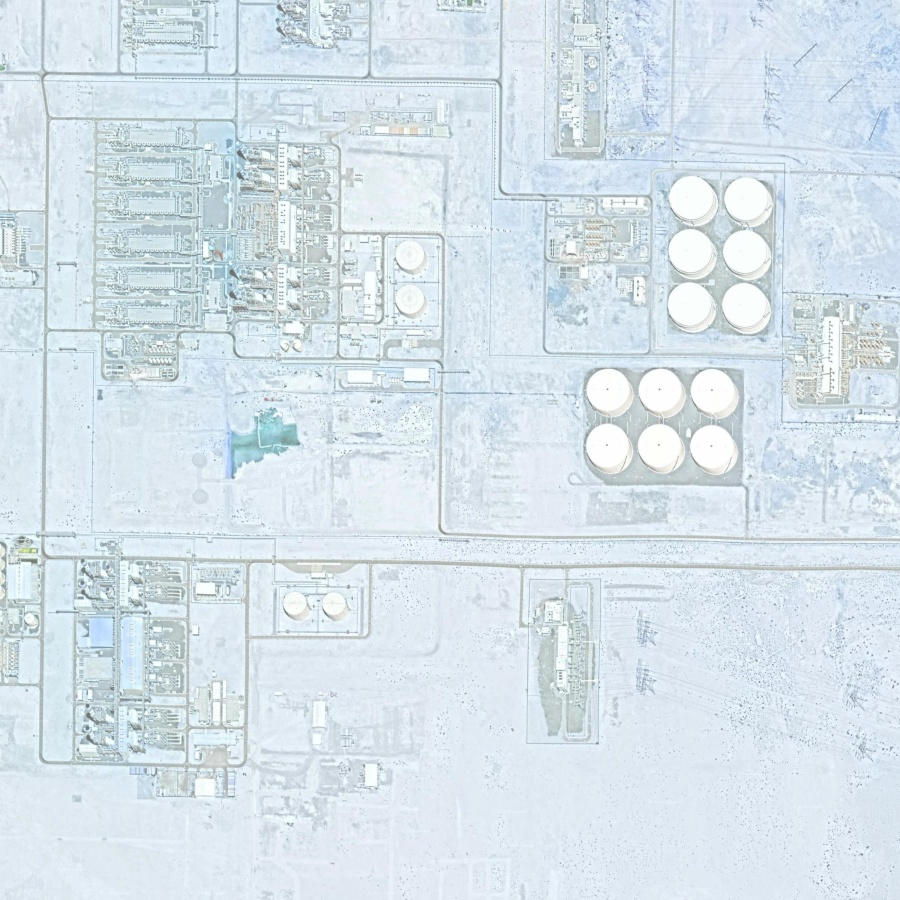PowerPlant: (79, 114, 441, 394)
